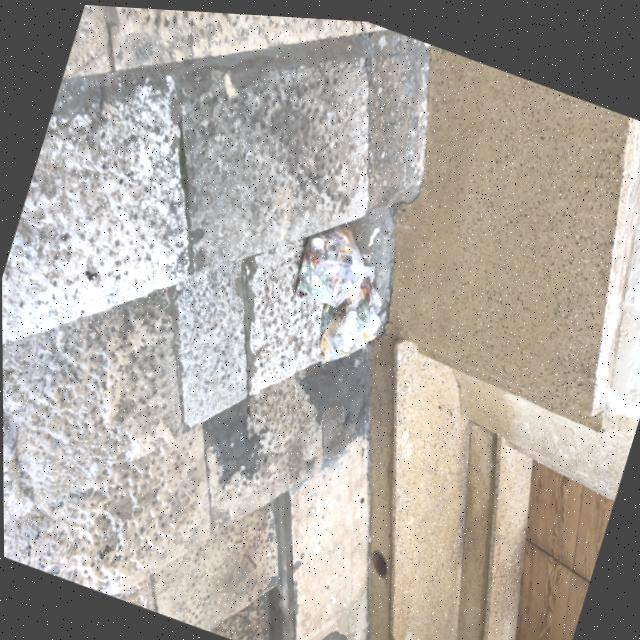Organic Waste -White Bag-: (287, 203, 376, 317), (307, 260, 393, 376)
